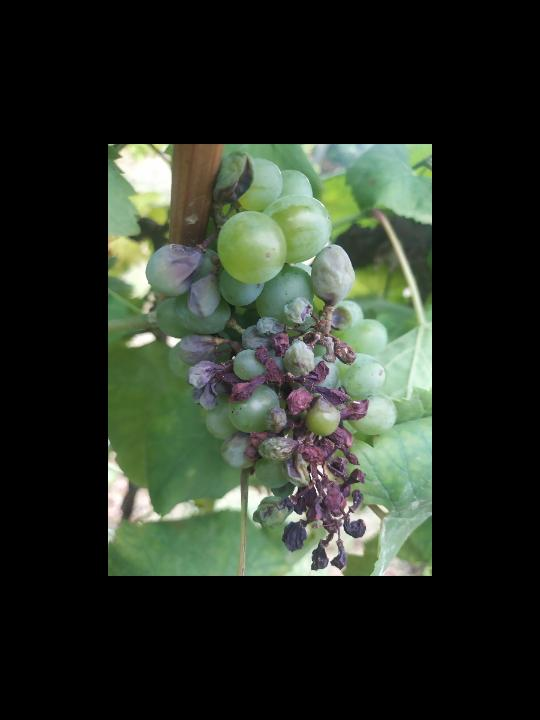grape: (144, 148, 399, 573)
